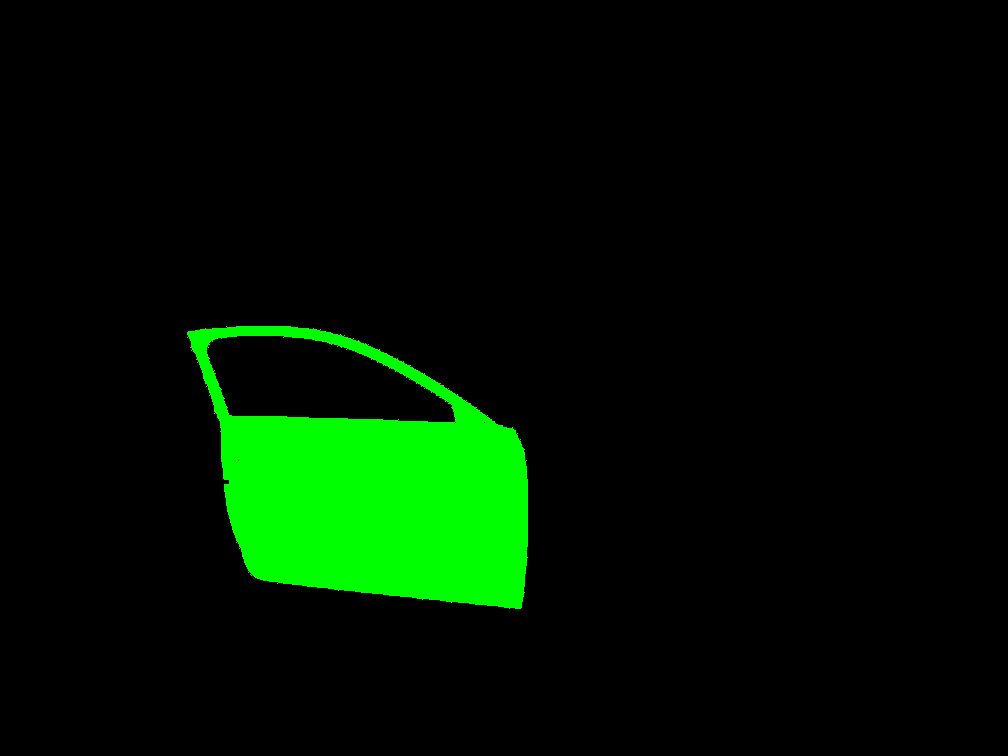car_door: (187, 326, 527, 608)
